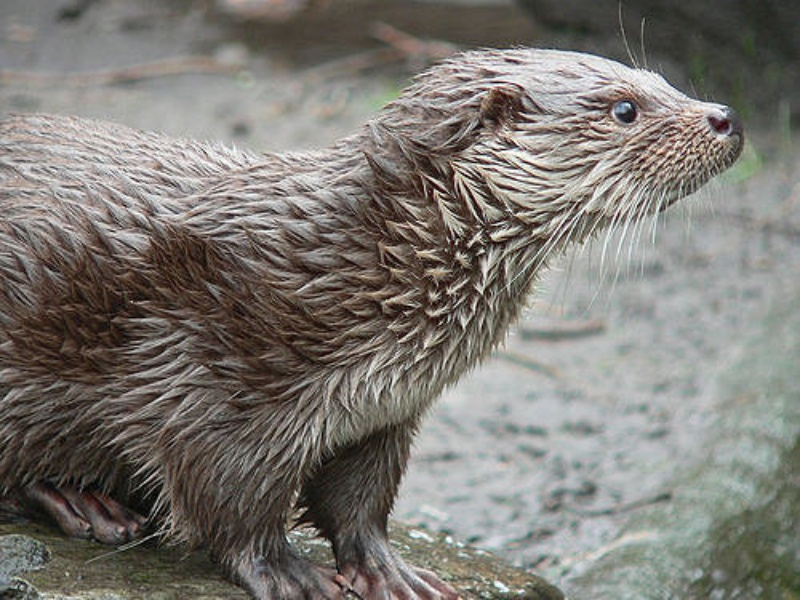minkish: (1, 42, 751, 551)
